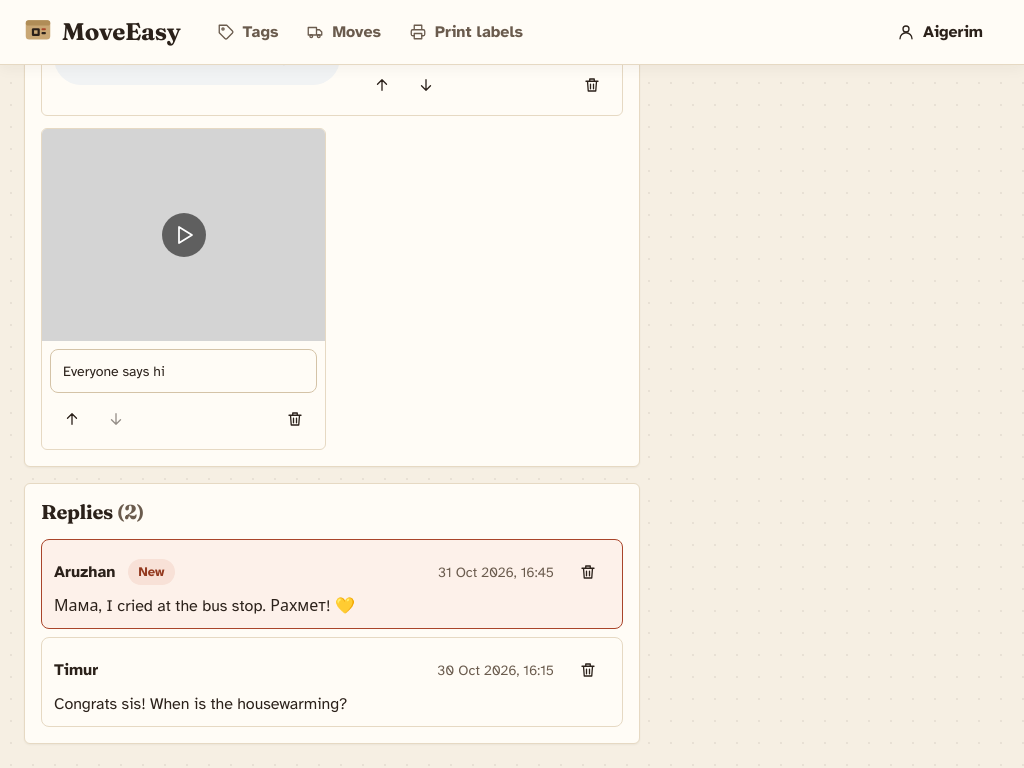
Test: replies › the owner sees replies, they become read, and can delete one
(page scrolled)
Expected: the text "Мама, I cried at the bus stop. Рахмет! 💛" is shown, [54,596,355,616]
Expected: the text "New" is shown, [128,559,175,585]
What coordinates should you click on to do the following:
click the button named "Delete reply from Timur"
I would click on:
 (588, 670)
Its box is [566,648,610,692].
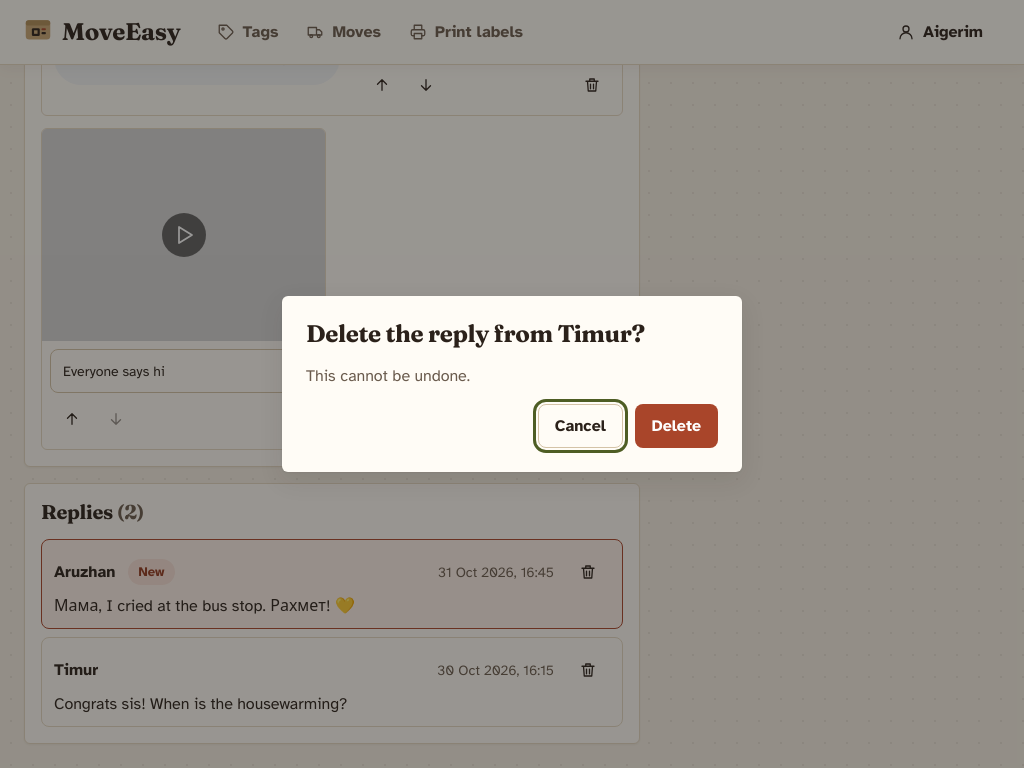
What coordinates should you click on to do the following:
click the button "Delete"
I would click on:
 (676, 426)
Its box is [635,404,718,448].
(page scrolled)
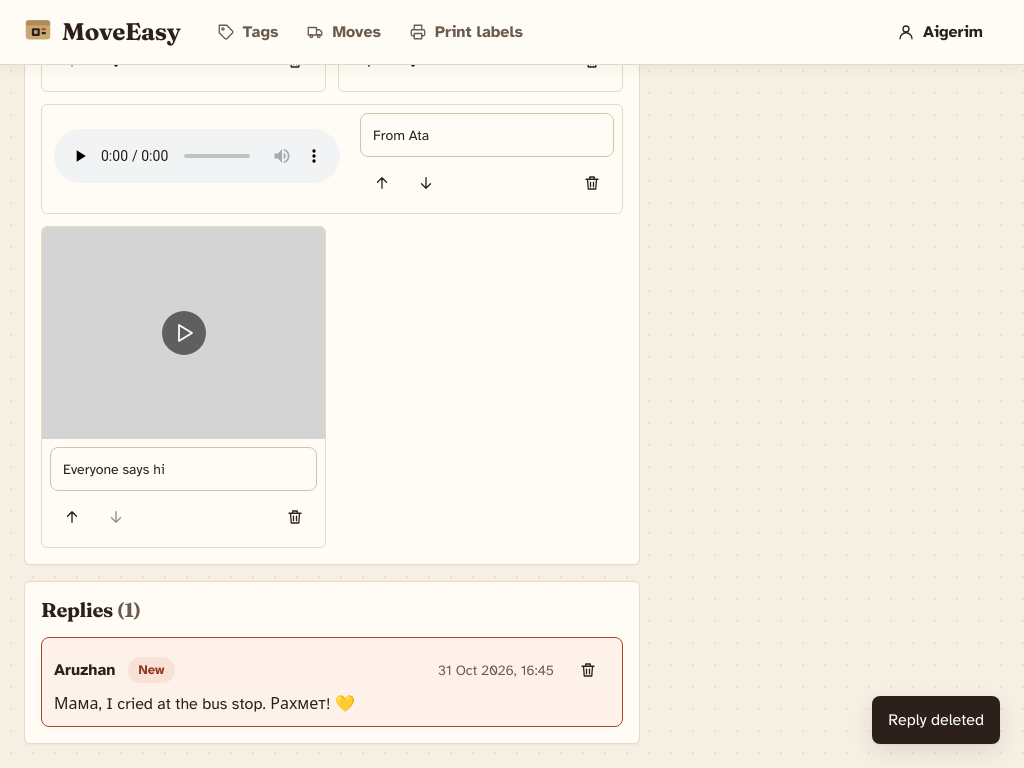
Expected: the text "Reply deleted" is shown, [888,708,984,732]
